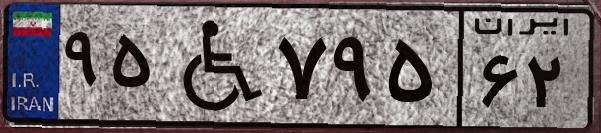2: (525, 38, 570, 115)
5: (385, 28, 445, 110), (110, 28, 158, 98)
6: (475, 38, 525, 113)
7: (270, 28, 330, 110)
9: (330, 28, 385, 110), (57, 26, 110, 100)
ژ (معلولین و جانبازان): (158, 12, 270, 120)
